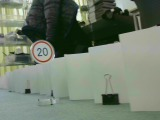speed_20: (30, 39, 55, 64)
